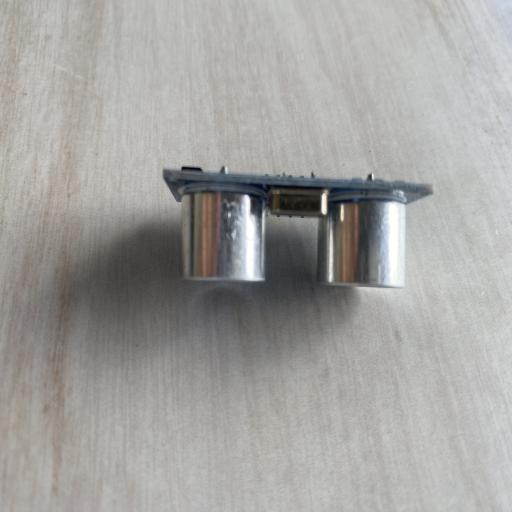Ultrasonic Sensor: (160, 164, 436, 292)
